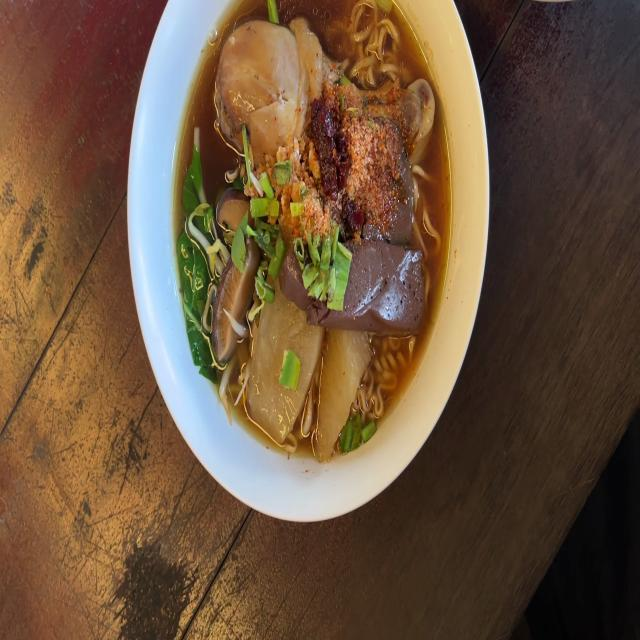noodle: (153, 0, 467, 453)
